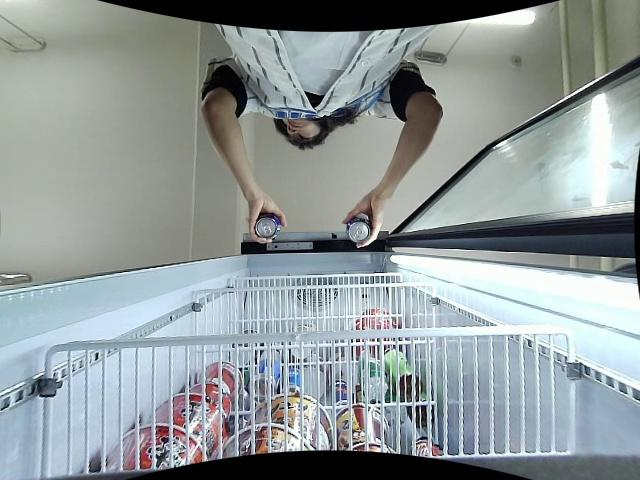00_hand: (341, 195, 384, 248), (248, 193, 288, 245)
14_welchsGrape: (347, 215, 371, 245), (255, 215, 282, 239)
